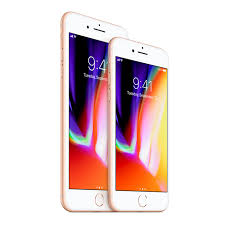iphone: (106, 36, 170, 215)
iphone8: (106, 34, 170, 213)
